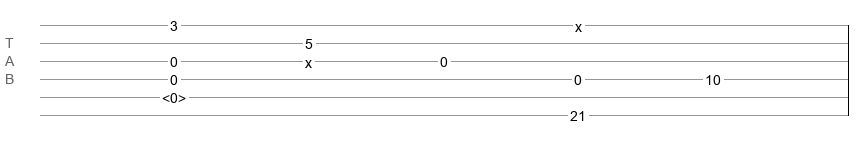0: (170, 54, 178, 64), (170, 72, 178, 82), (440, 54, 448, 64), (574, 72, 582, 82)
10: (705, 72, 721, 82)
21: (570, 108, 586, 118)
3: (170, 18, 178, 28)
5: (305, 36, 313, 46)
harmonic: (162, 90, 186, 100)
x: (305, 55, 312, 63), (575, 19, 582, 27)
